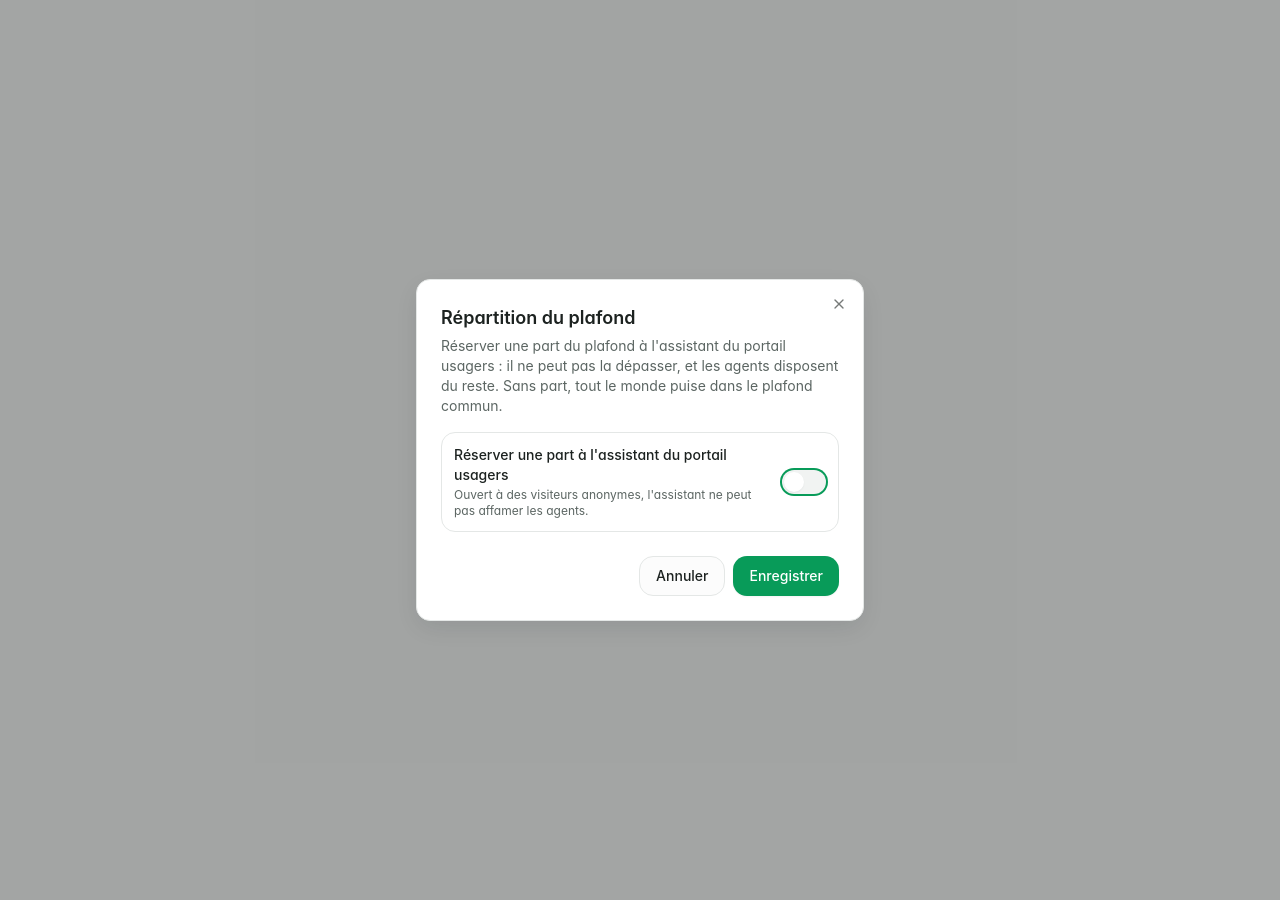
AiShareDialog — la répartition du plafond › affiche tel quel le refus du serveur
The width and height of the screenshot is (1280, 900).
Click the switch named "Réserver une part à l'assistant du portail usagers". click: [804, 482]
box: 782,470 -> 826,494
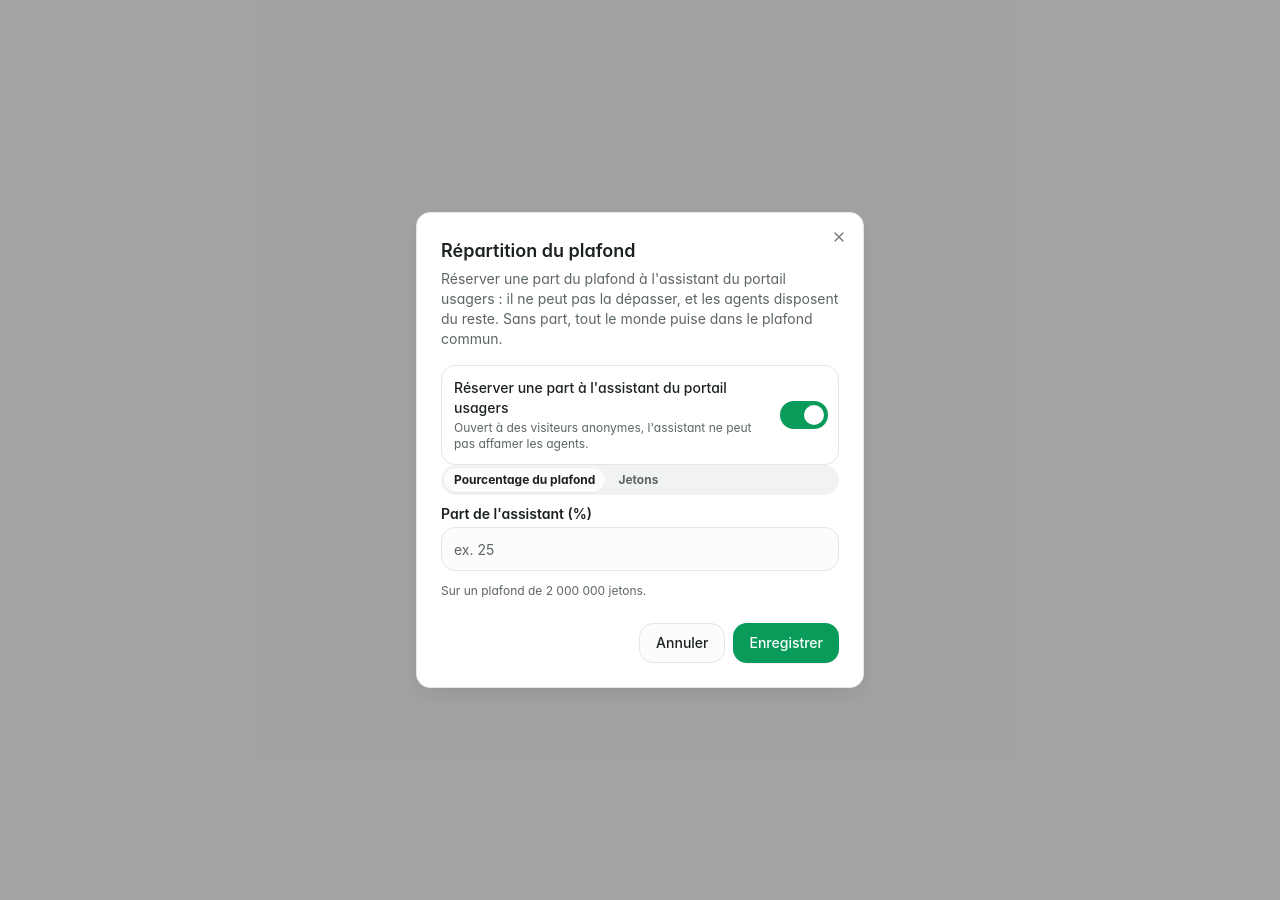
Type "10" into the field labelled "Part de l'assistant (%)". click: [640, 549]
box: 441,527 -> 839,571
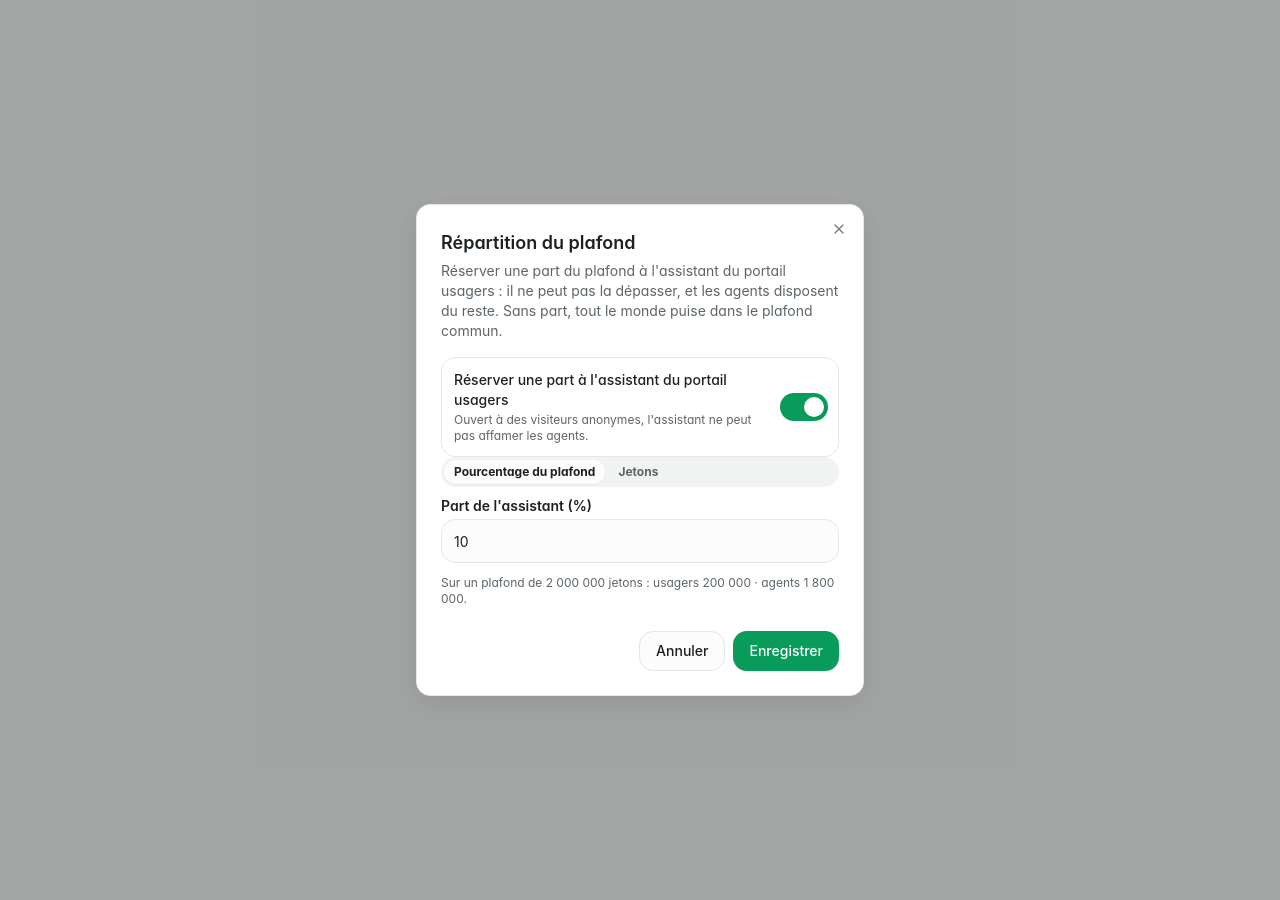
Click the button "Enregistrer". click: [786, 651]
box: 734,631 -> 839,671
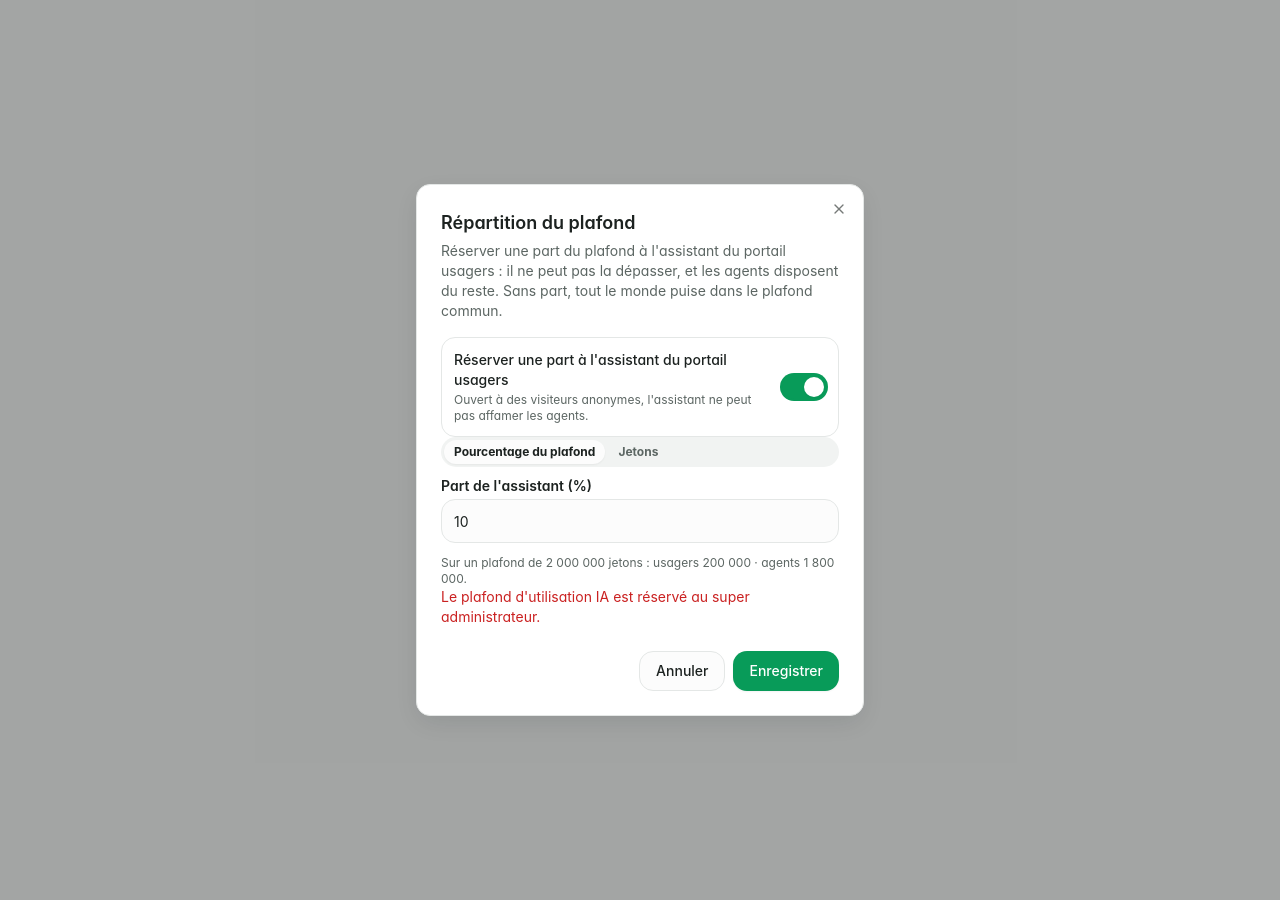
Now the message shows "réservé au super administrateur", box 441,588 -> 750,625
